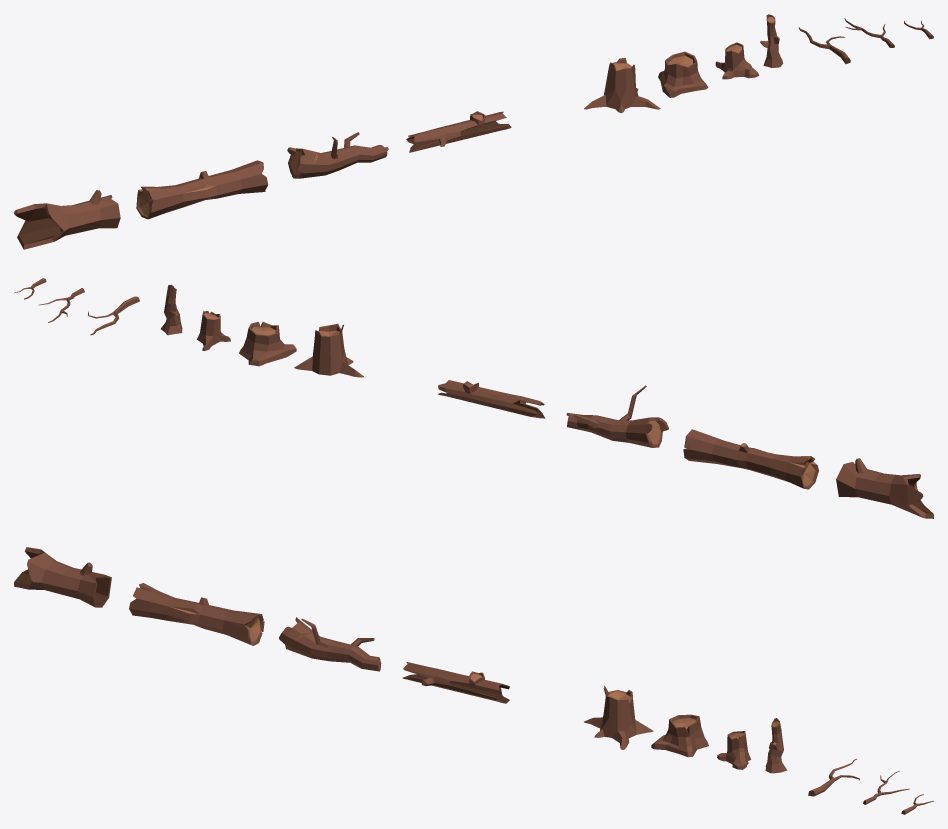
File: Branch.fbx
3 renders of one model, top to bottom at view 1: azimuth 30°, elevation 25°; view 2: azimuth 150°, elevation 25°; view 3: azimuth 330°, elevation 25°, orthographic.
Visible parts, largest first — view 1: Branch _Type 3_03, Branch _Type 3_04, Branch _Type 3_02, Branch _Type 3_01, Branch _Type 2_04, Branch _Type 2_03, Branch _Type 2_02, Branch _Type 2_01; view 2: Branch _Type 3_03, Branch _Type 3_04, Branch _Type 3_02, Branch _Type 2_04, Branch _Type 3_01, Branch _Type 2_03, Branch _Type 2_02, Branch _Type 2_01; view 3: Branch _Type 3_03, Branch _Type 3_04, Branch _Type 3_02, Branch _Type 3_01, Branch _Type 2_04, Branch _Type 2_03, Branch _Type 2_02, Branch _Type 2_01.
Part boxes in pixels (left/top/right/bottom): Branch _Type 3_03: left=136, top=160, right=268, bottom=219; Branch _Type 3_04: left=14, top=190, right=120, bottom=249; Branch _Type 3_02: left=287, top=132, right=388, bottom=178; Branch _Type 3_01: left=406, top=111, right=511, bottom=152; Branch _Type 2_04: left=584, top=58, right=660, bottom=113; Branch _Type 2_03: left=658, top=51, right=708, bottom=97; Branch _Type 2_02: left=715, top=42, right=759, bottom=79; Branch _Type 2_01: left=760, top=14, right=782, bottom=67; Branch _Type 3_03: left=683, top=429, right=818, bottom=489; Branch _Type 3_04: left=836, top=458, right=933, bottom=518; Branch _Type 3_02: left=566, top=385, right=668, bottom=447; Branch _Type 2_04: left=294, top=324, right=363, bottom=377; Branch _Type 3_01: left=438, top=380, right=545, bottom=418; Branch _Type 2_03: left=239, top=321, right=296, bottom=366; Branch _Type 2_02: left=197, top=311, right=230, bottom=350; Branch _Type 2_01: left=161, top=285, right=182, bottom=335; Branch _Type 3_03: left=129, top=583, right=264, bottom=645; Branch _Type 3_04: left=14, top=547, right=111, bottom=607; Branch _Type 3_02: left=279, top=617, right=381, bottom=671; Branch _Type 3_01: left=402, top=662, right=509, bottom=703; Branch _Type 2_04: left=584, top=685, right=653, bottom=749; Branch _Type 2_03: left=651, top=714, right=708, bottom=757; Branch _Type 2_02: left=717, top=731, right=750, bottom=769; Branch _Type 2_01: left=765, top=718, right=787, bottom=773.
Bounding box in the file's own units: 2944 × 158 × 270.
